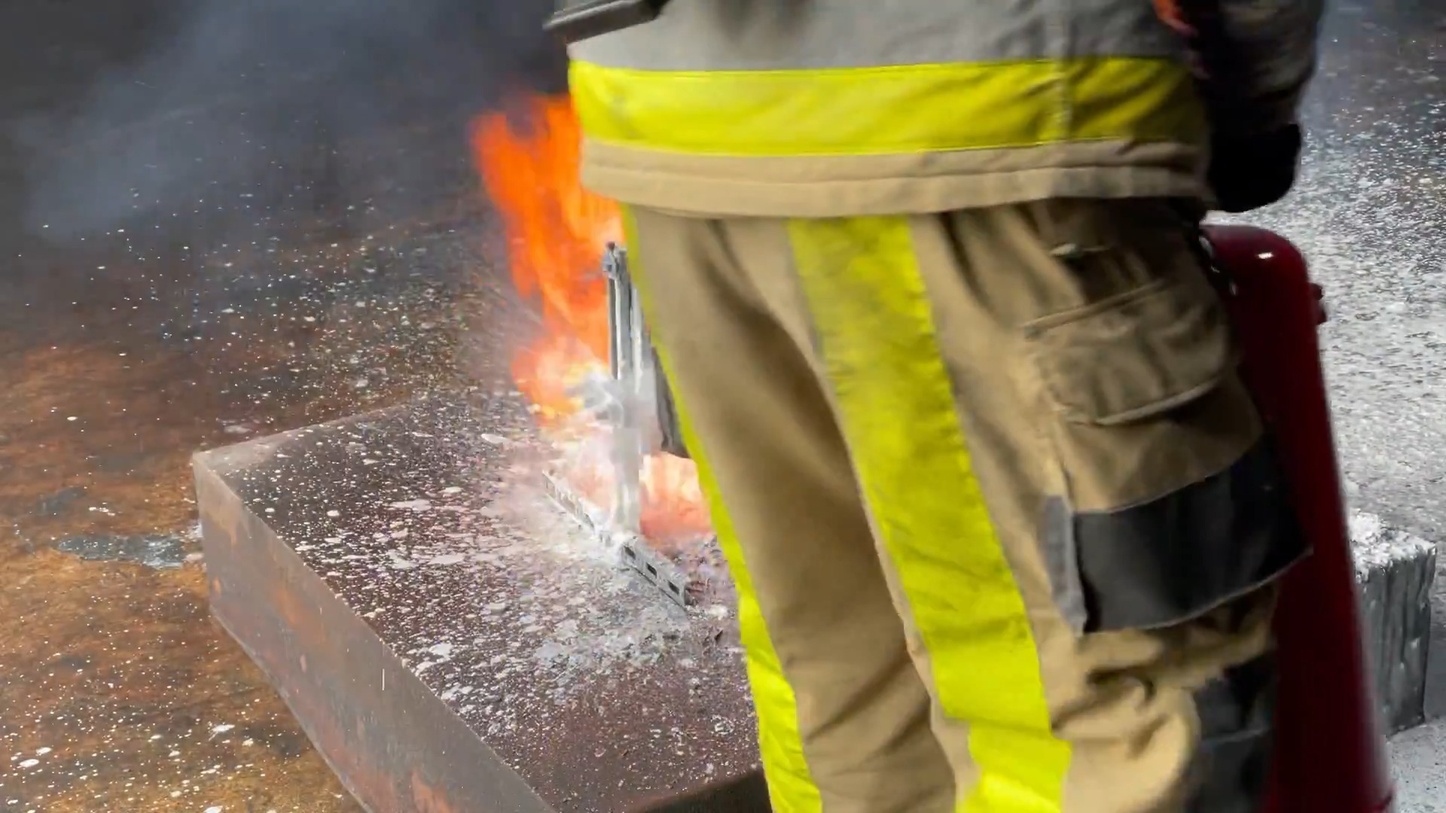fire: (462, 82, 632, 444), (638, 450, 715, 550)
smoke: (1, 1, 565, 300)
